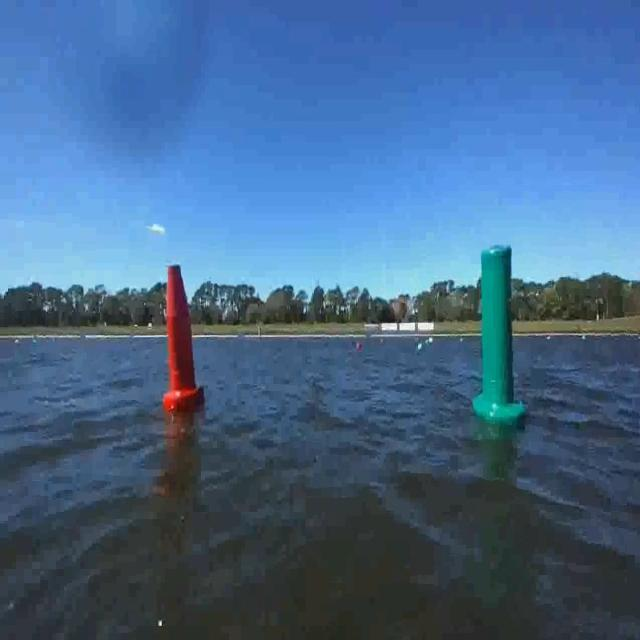green-column-buoy: (474, 247, 523, 429)
red-column-buoy: (166, 261, 206, 412)
